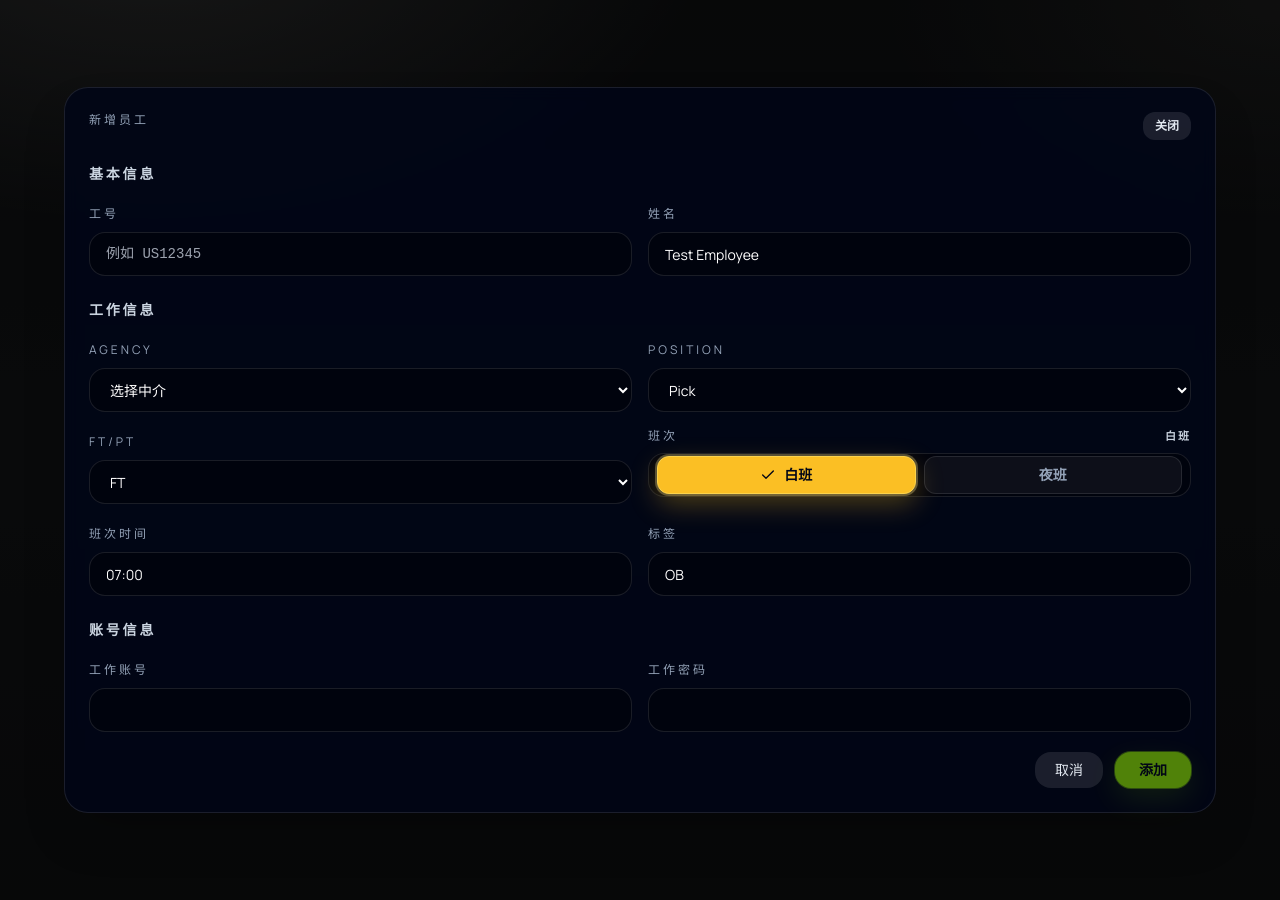
Test case: EmployeeAddModal › keeps new agency mode active while entering a new agency
Select "新中介" in the dropdown below "Agency". click: (360, 390)
box: top-left (89, 368), bottom-right (632, 412)
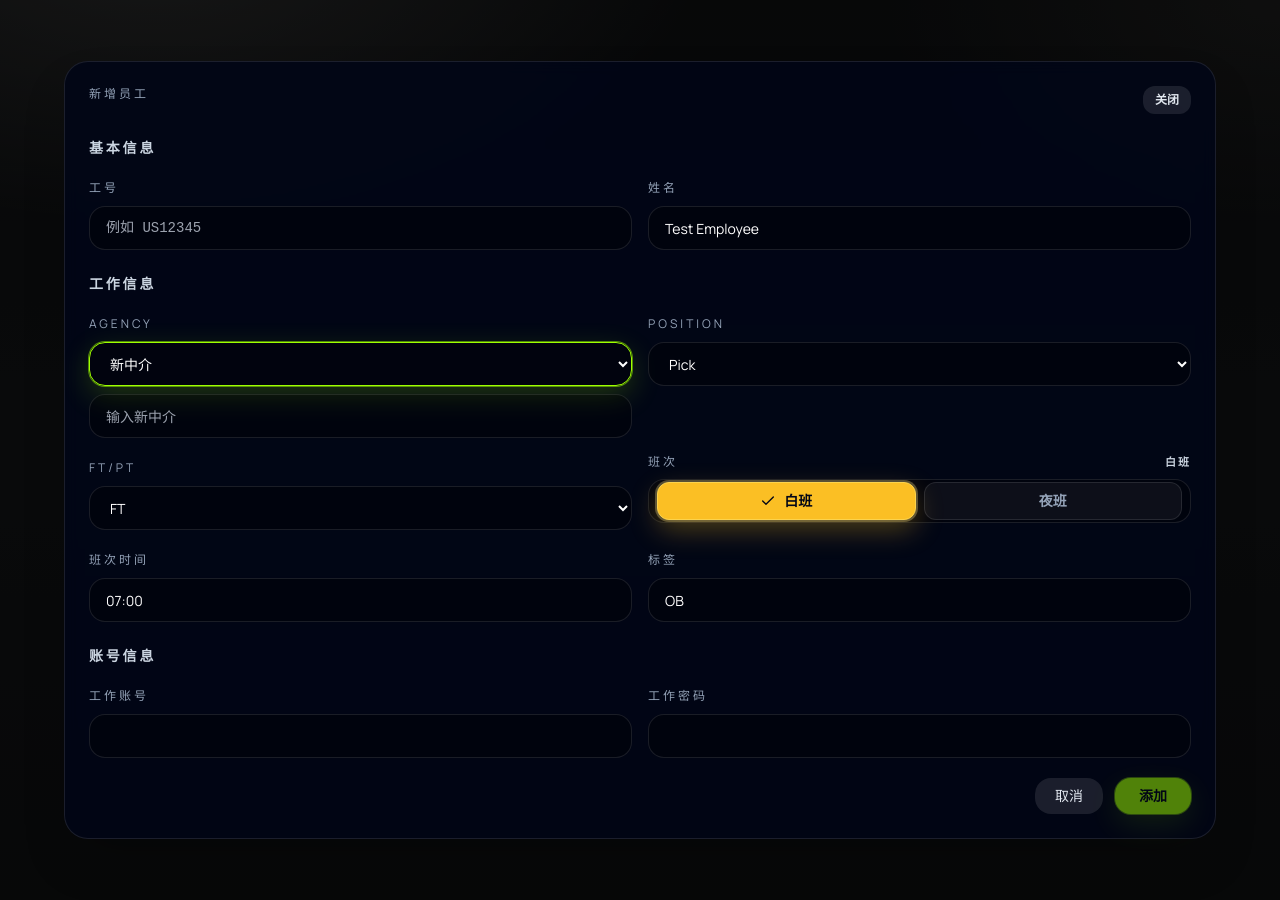
Type "Prime" into the field with placeholder "输入新中介". click: (360, 416)
box: top-left (89, 394), bottom-right (632, 438)
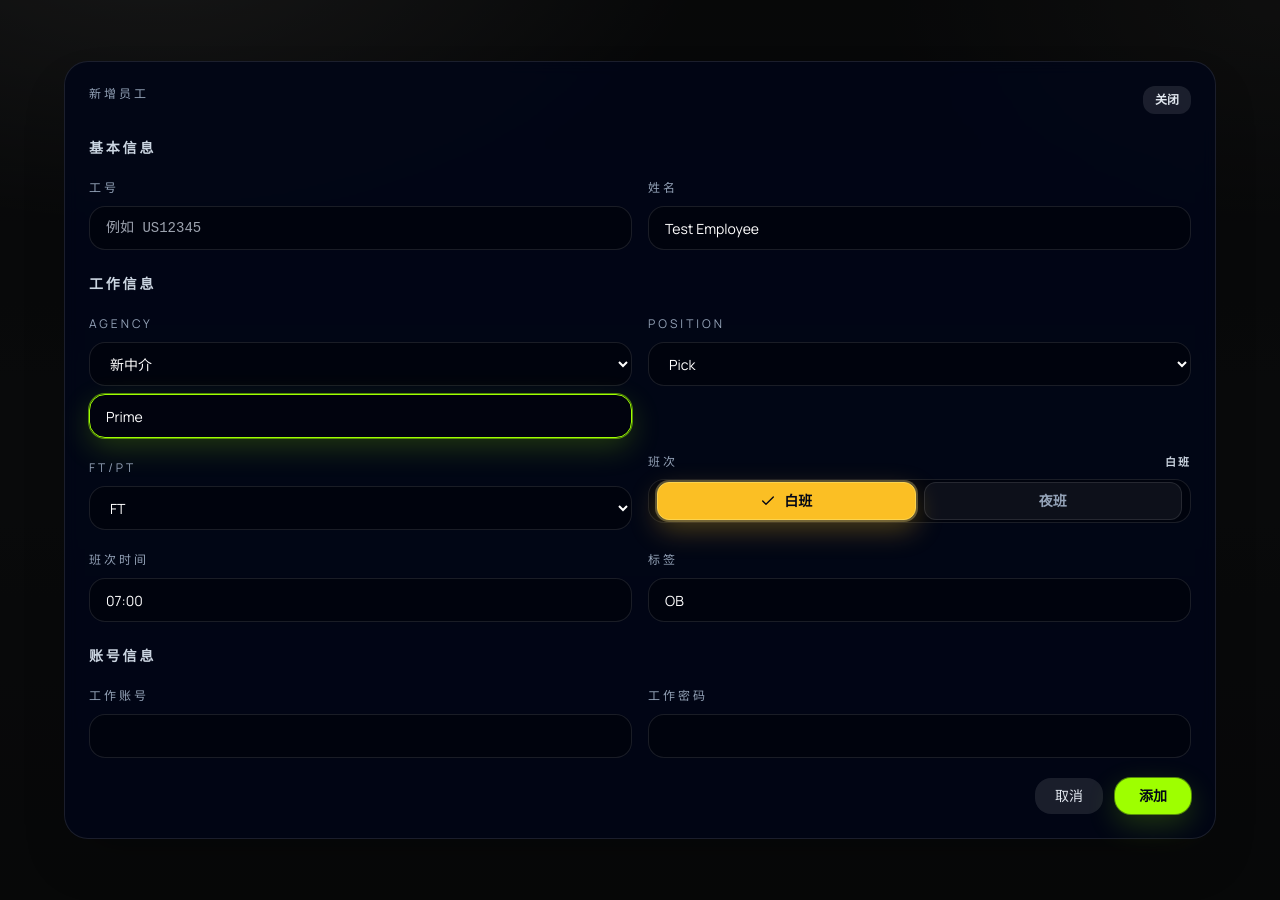
Select "Central" in the dropdown below "Agency". click: (360, 364)
box: top-left (89, 342), bottom-right (632, 386)
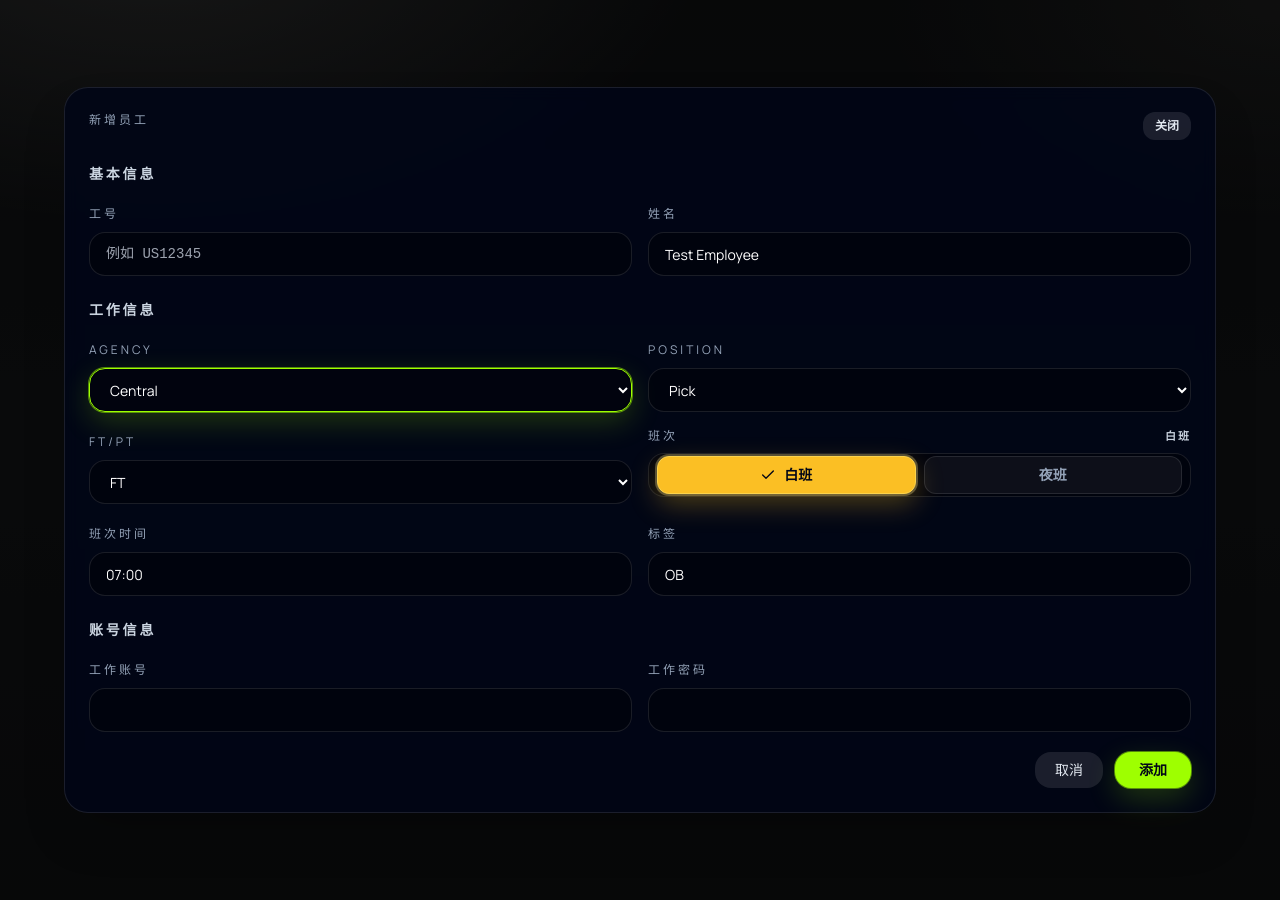
Check: the field with placeholder "输入新中介" is gone
